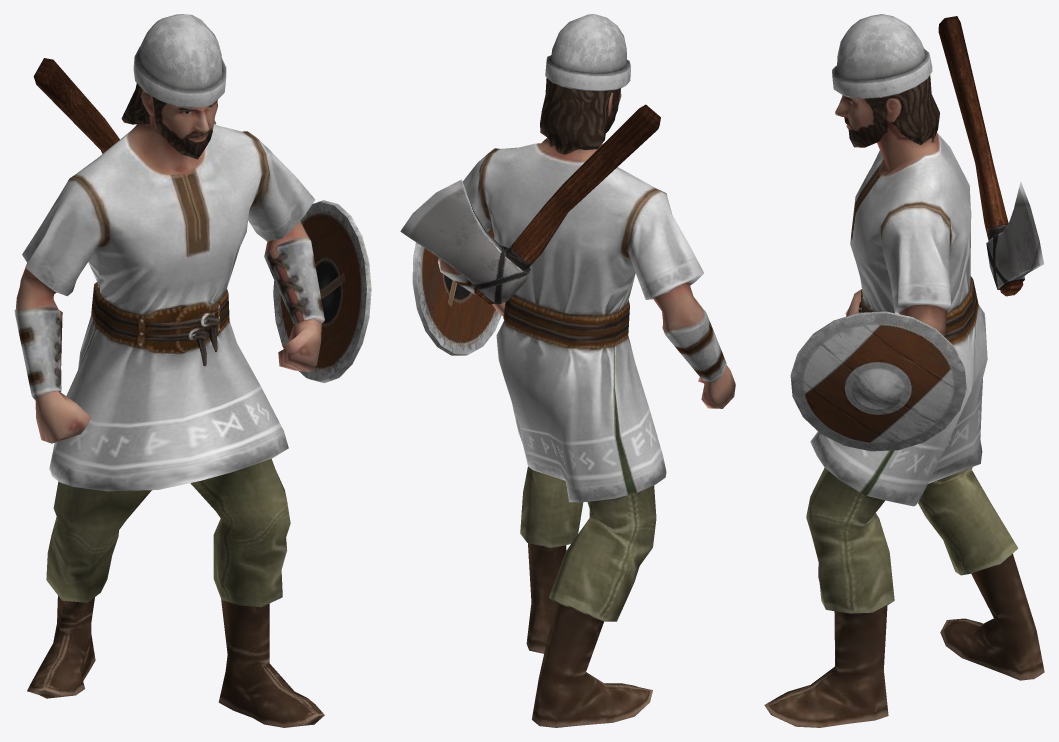
The model's file is 80-throwingaxeman.glb.
The picture shows the model from 3 angles, left to right: view 1: azimuth 30°, elevation 25°; view 2: azimuth 150°, elevation 25°; view 3: azimuth 270°, elevation 25°; orthographic projection. The views are drawn at different scales.
Size of the model in its own units: 0.9722 by 2.08 by 0.7893.
Materials: 4 (4 with a texture image).
